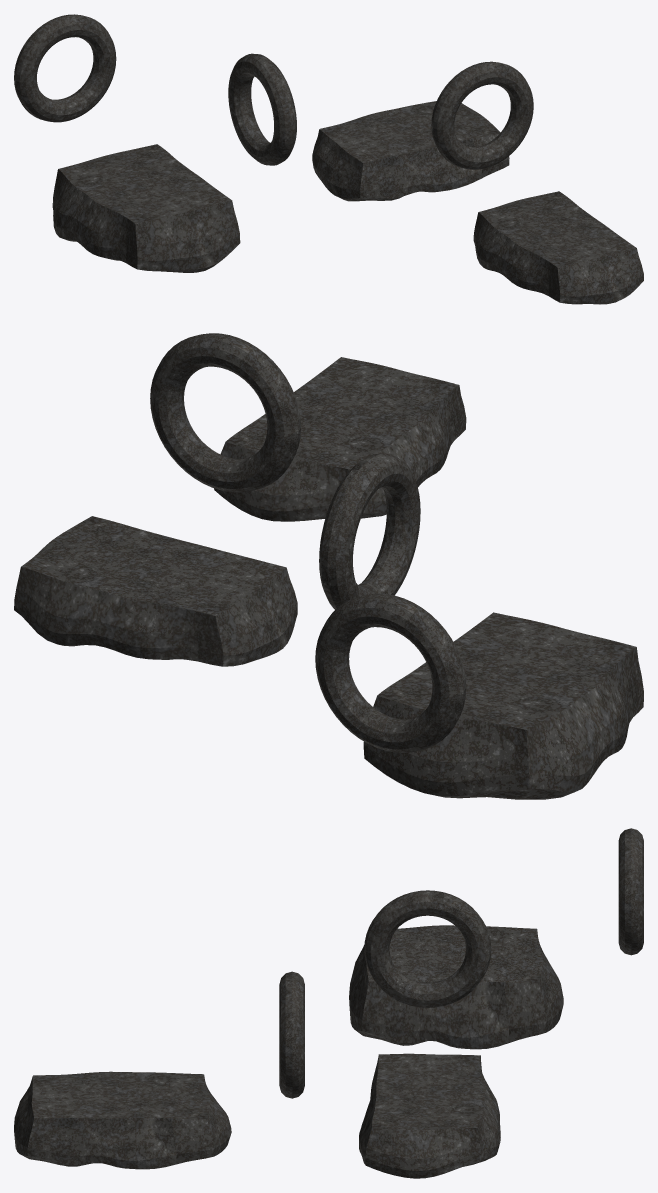
Rendered from Level3_6.fbx.
The picture shows the model from 3 angles, top to bottom: view 1: azimuth 30°, elevation 25°; view 2: azimuth 150°, elevation 25°; view 3: azimuth 270°, elevation 25°; orthographic projection. The views are drawn at different scales.
Parts seen in each view (by area): view 1: Nuage; view 2: Nuage; view 3: Nuage.
Part boxes in pixels (x1,y1,x2,y2): Nuage: [14, 14, 643, 304]; Nuage: [14, 333, 643, 799]; Nuage: [14, 828, 643, 1178].
Size of the model in its own units: 1549 by 637 by 1858.
Materials: 1 (1 with a texture image).
